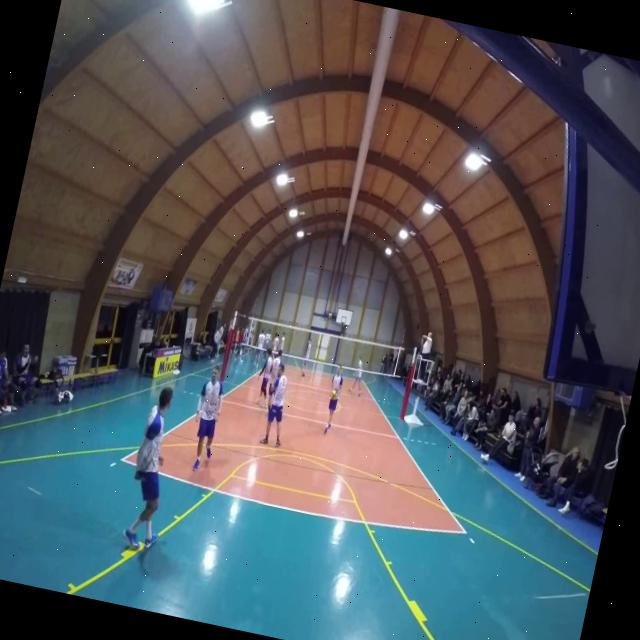Volleyball: (329, 387, 338, 400)
serve: (114, 378, 194, 560)
